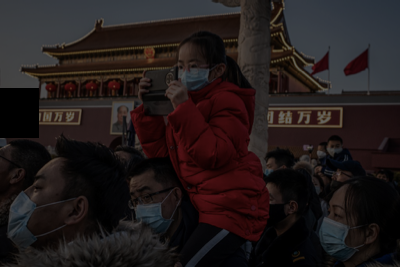mask_weared_incorrect: (329, 169, 350, 193)
with_mask: (8, 169, 73, 251), (320, 199, 366, 260), (127, 185, 178, 235), (175, 55, 215, 93), (265, 185, 290, 226), (265, 159, 280, 177), (325, 143, 342, 155), (316, 146, 325, 158)
